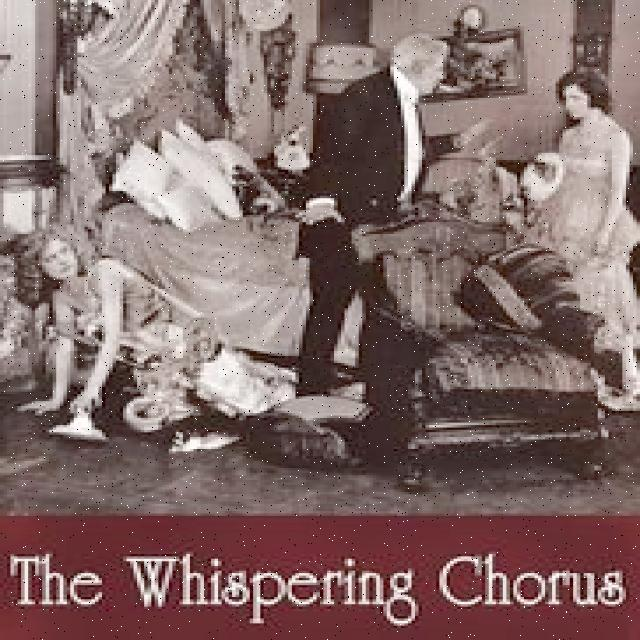movie-judul: (1, 518, 640, 639)
picture: (3, 2, 636, 514)
